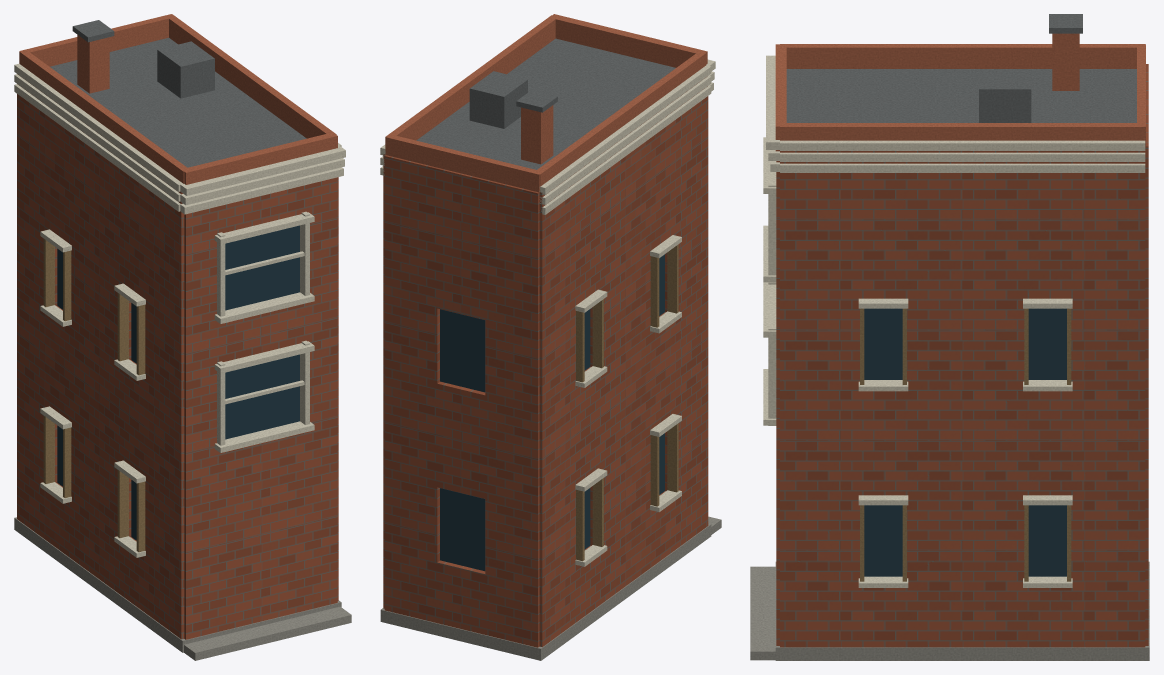
The model's file is RUNDWN13_lod2.glb.
3 renders of one model, left to right at view 1: azimuth 30°, elevation 25°; view 2: azimuth 150°, elevation 25°; view 3: azimuth 270°, elevation 25°, orthographic. The views are drawn at different scales.
Parts seen in each view (by area): view 1: RUNDWN13_LOD2; view 2: RUNDWN13_LOD2; view 3: RUNDWN13_LOD2.
Part boxes in pixels (box(x1,y1,x2,y2)): RUNDWN13_LOD2: box(14, 14, 351, 660); RUNDWN13_LOD2: box(380, 14, 721, 660); RUNDWN13_LOD2: box(750, 14, 1149, 660).
Size of the model in its own units: 3.71 by 10.45 by 6.57.
Materials: 8 (6 with a texture image).
